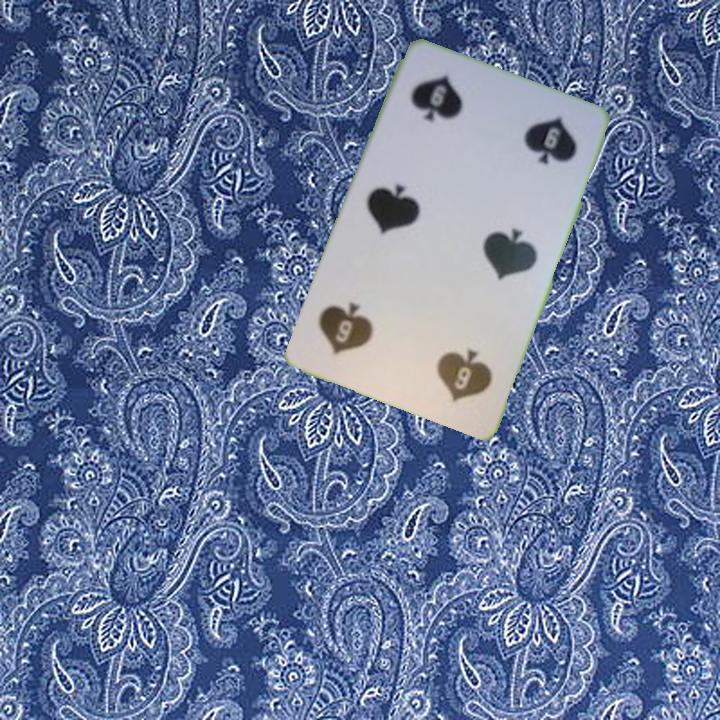s_6.png: (386, 54, 508, 168), (390, 308, 512, 422)
